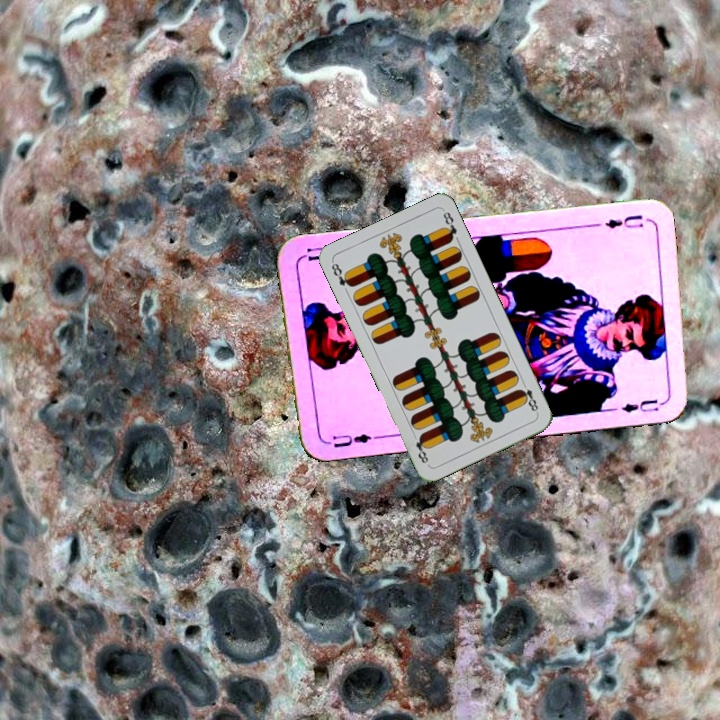E8: (515, 378, 541, 416), (327, 258, 355, 290)
EU: (321, 429, 380, 451), (601, 211, 646, 231)
